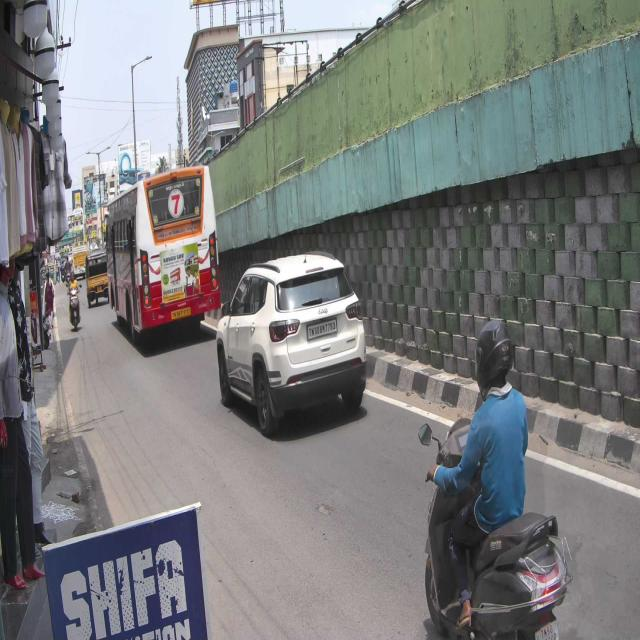single_rider: (418, 314, 574, 640)
